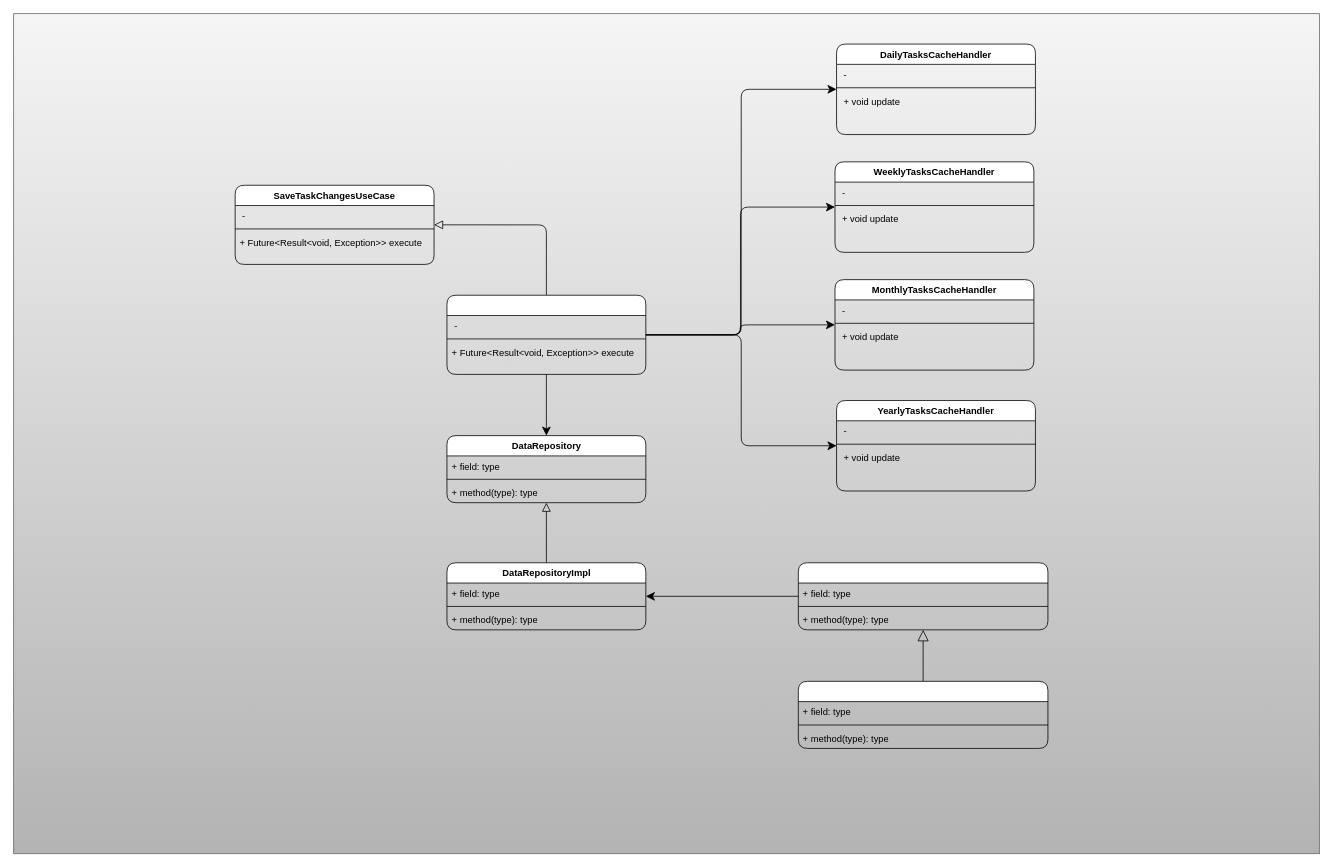
Some shapes in this 1333 by 867 pixel diagram are drawn without their labels. The box of each missing label's shape, as (x1, y1, x2, y2) in pixels:
DataSource: (798, 562, 1048, 630)
MyDatabase: (798, 681, 1048, 748)
SaveTaskChangesInteractor: (446, 294, 646, 374)
